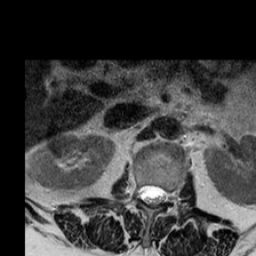CCS_normal: (148, 174, 156, 216)
LFS_normal: (165, 180, 173, 212)
LLS_normal: (156, 178, 165, 212)
RFS_normal: (132, 173, 140, 205)
RLS_normal: (139, 176, 148, 210)
